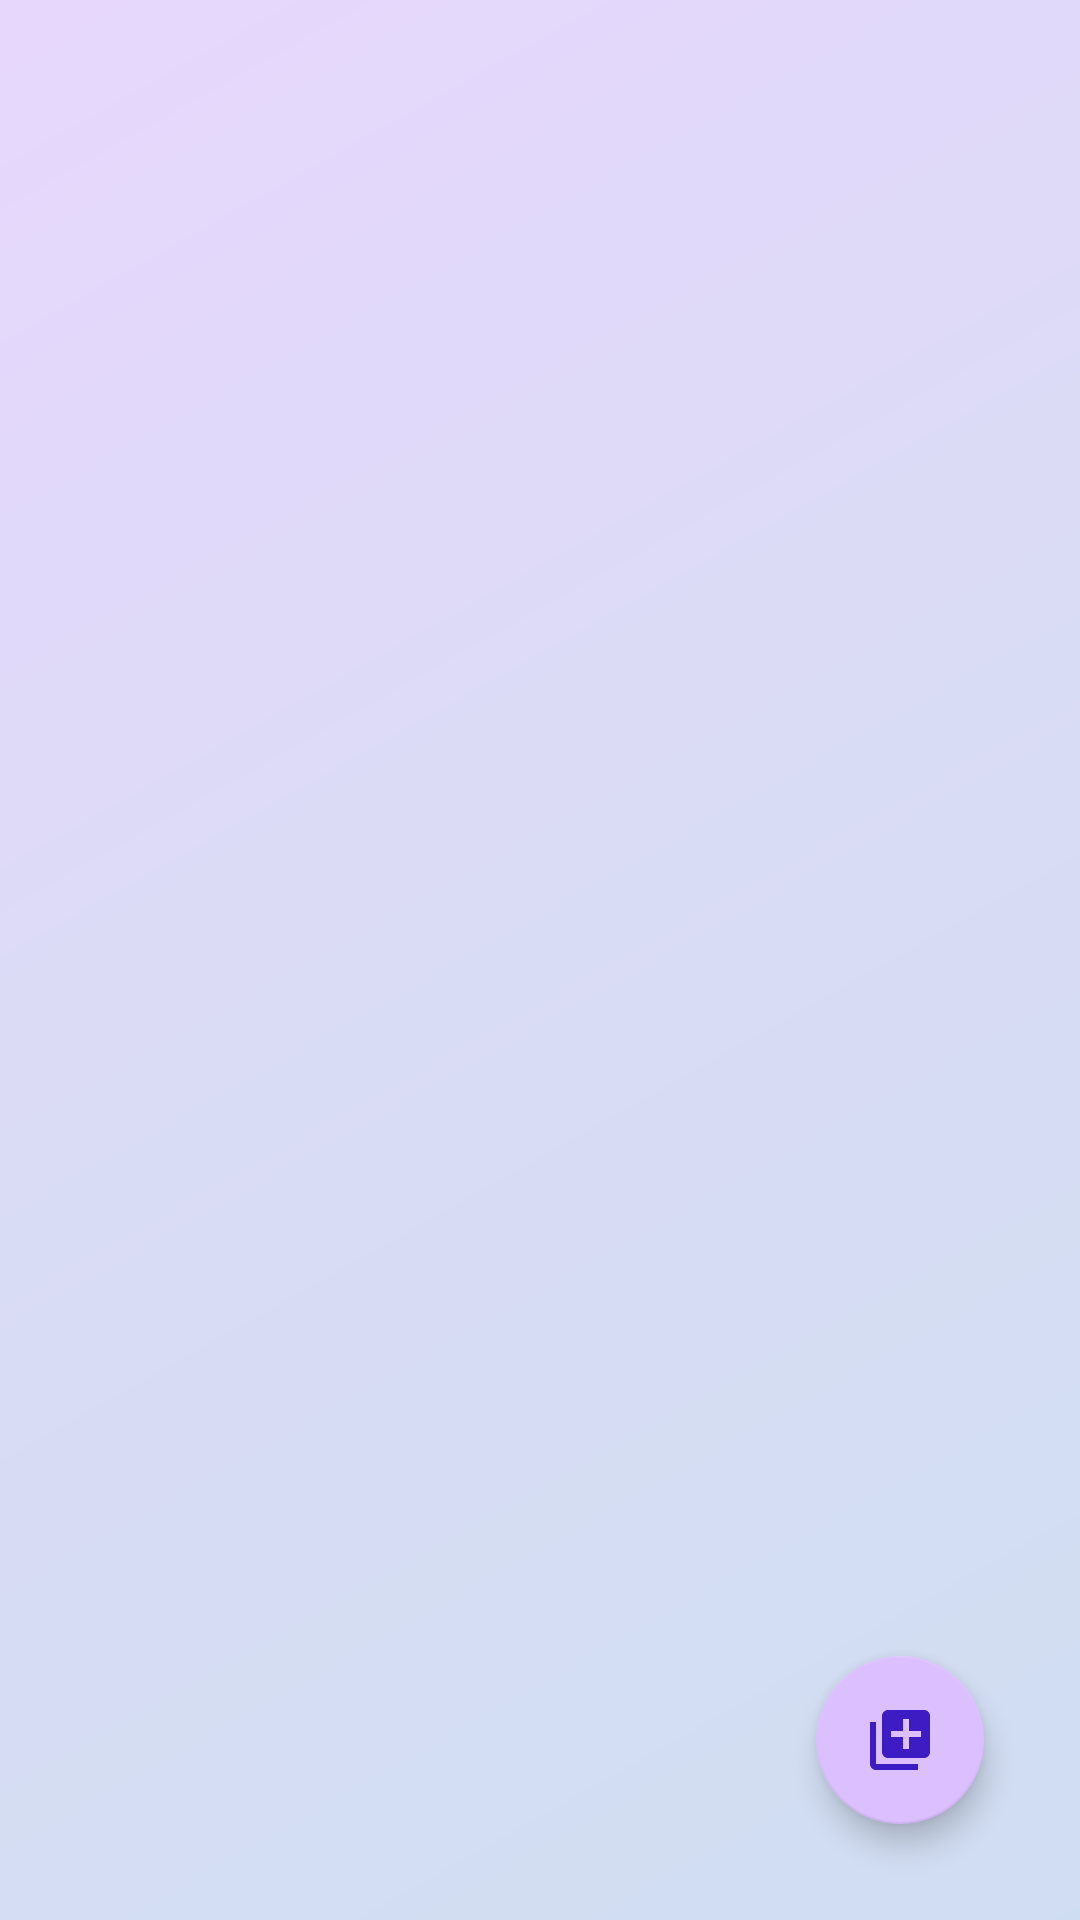

Locate icon controls on the screen. Image size 1080 × 1920, boxes as (x1, y1, x2, y2).
add notes: (816, 1658, 984, 1824)
